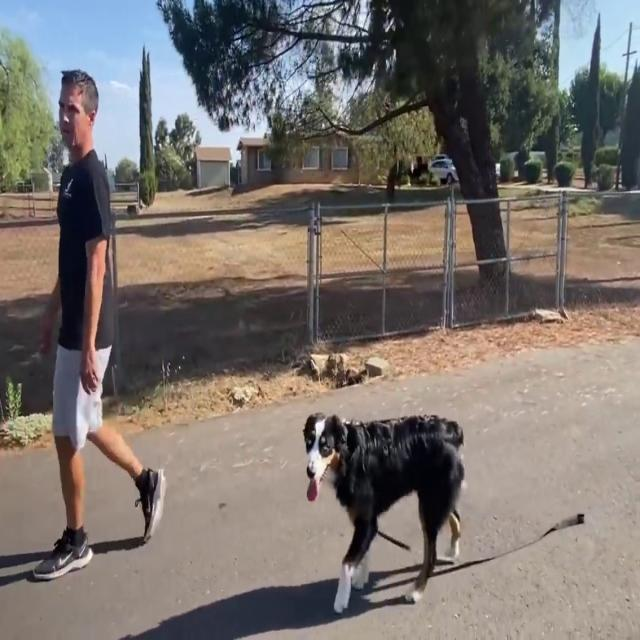Unleashed_Dog: (62, 346, 466, 616)
